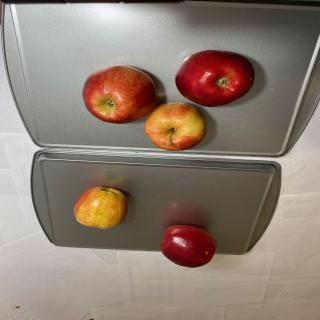Apple: (175, 50, 255, 107), (82, 65, 157, 124), (144, 102, 206, 151), (160, 224, 217, 268), (73, 186, 128, 229)
